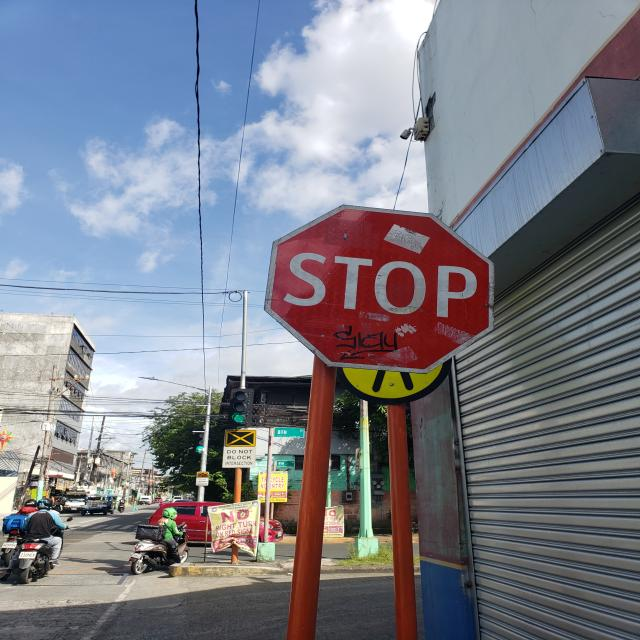stop-sign: (263, 203, 495, 374)
